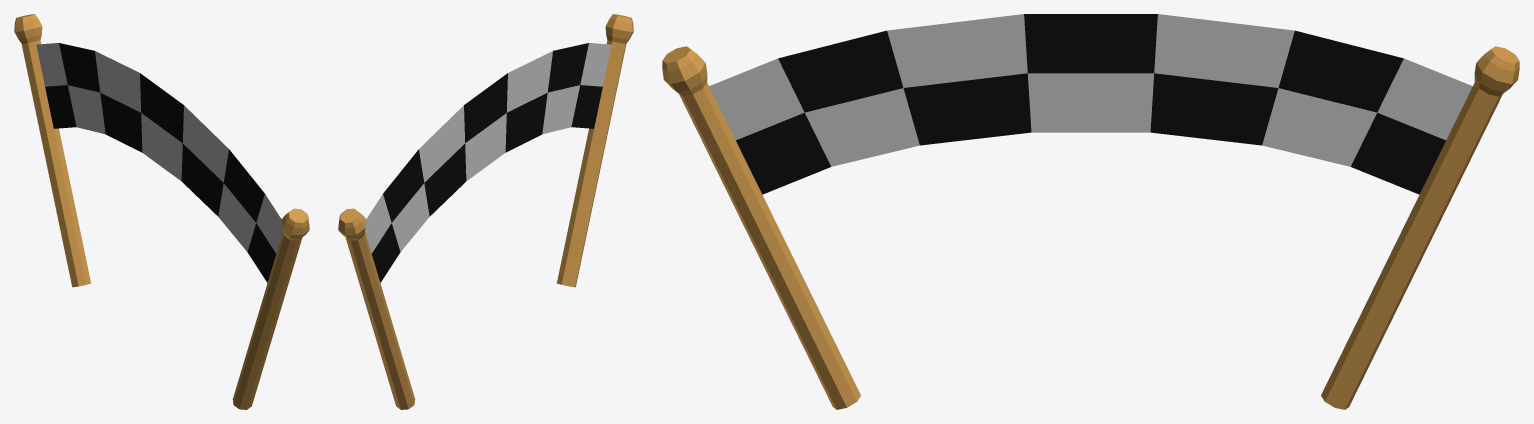
File: Flag.fbx
3 renders of one model, left to right at view 1: azimuth 30°, elevation 25°; view 2: azimuth 150°, elevation 25°; view 3: azimuth 270°, elevation 25°, orthographic. The views are drawn at different scales.
Visible parts, largest first — view 1: Cylinder; view 2: Cylinder; view 3: Cylinder.
Part boxes in pixels (bbox=[...]): Cylinder: bbox=[14, 14, 309, 409]; Cylinder: bbox=[338, 14, 633, 409]; Cylinder: bbox=[662, 14, 1519, 409].
Bounding box in the file's own units: 73.14 × 690 × 1364.
